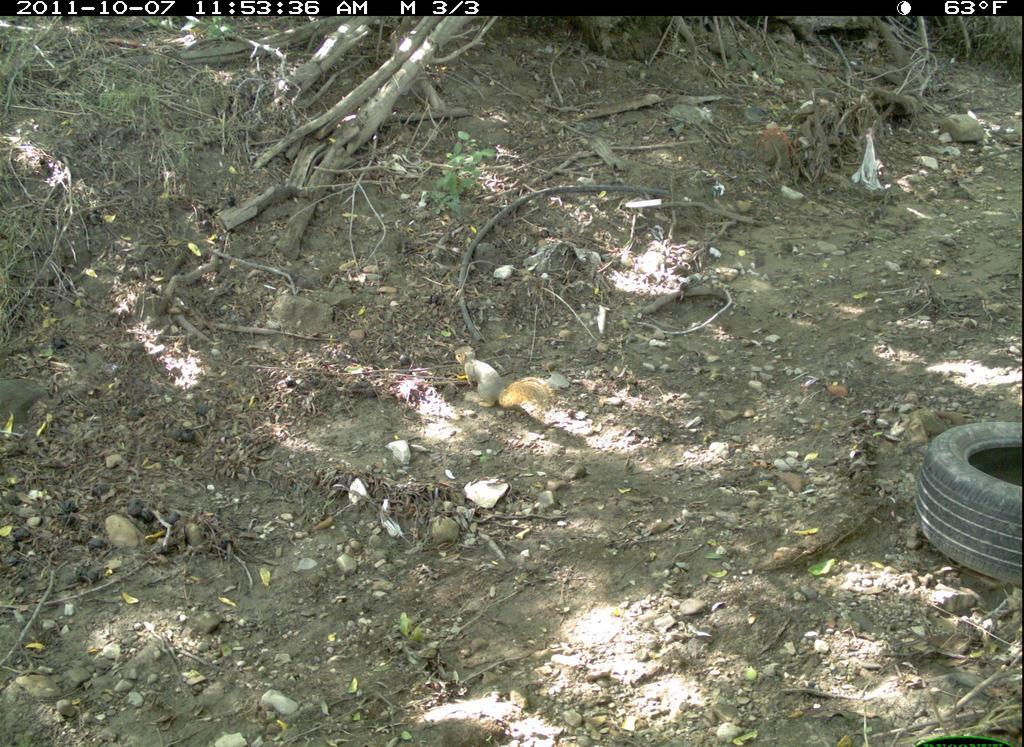squirrel: (451, 337, 562, 421)
